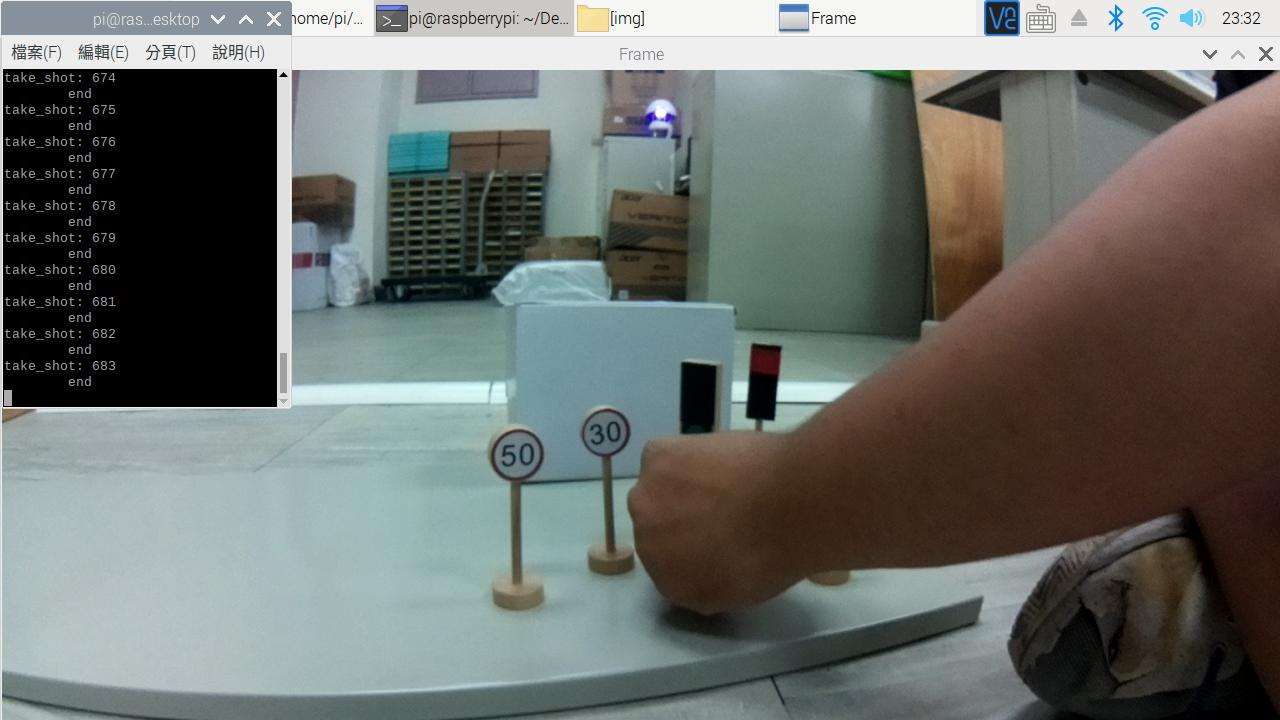Red: (737, 334, 782, 427)
Speed30: (578, 398, 634, 461)
Speed50: (490, 421, 551, 488)
